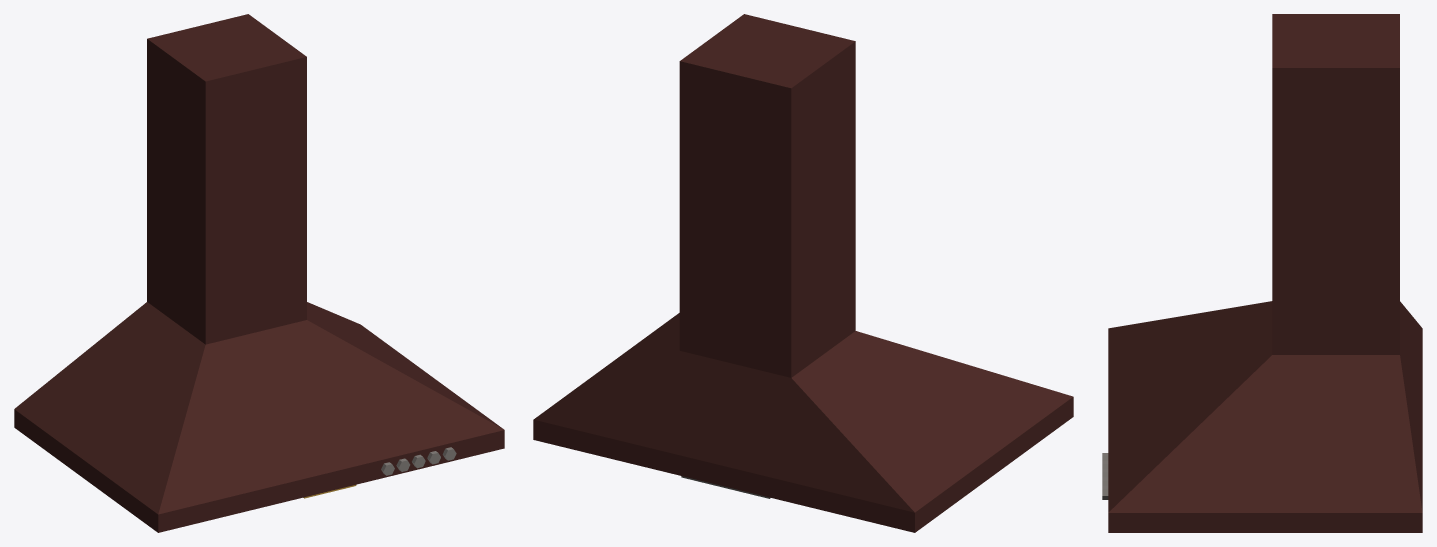
Rendered from kitchen_hood_01_C.gltf.
The picture shows the model from 3 angles, left to right: view 1: azimuth 30°, elevation 25°; view 2: azimuth 150°, elevation 25°; view 3: azimuth 270°, elevation 25°; orthographic projection. The views are drawn at different scales.
Parts seen in each view (by area): view 1: kitchen_hood_01_C; view 2: kitchen_hood_01_C; view 3: kitchen_hood_01_C.
Boxes of the visible parts, box(x1,y1,x2,y2) form: kitchen_hood_01_C: box(14, 14, 504, 532); kitchen_hood_01_C: box(533, 14, 1073, 532); kitchen_hood_01_C: box(1108, 14, 1422, 532).
Size of the model in its own units: 0.8323 by 0.8482 by 0.6102.
Materials: 1 (1 with a texture image).
